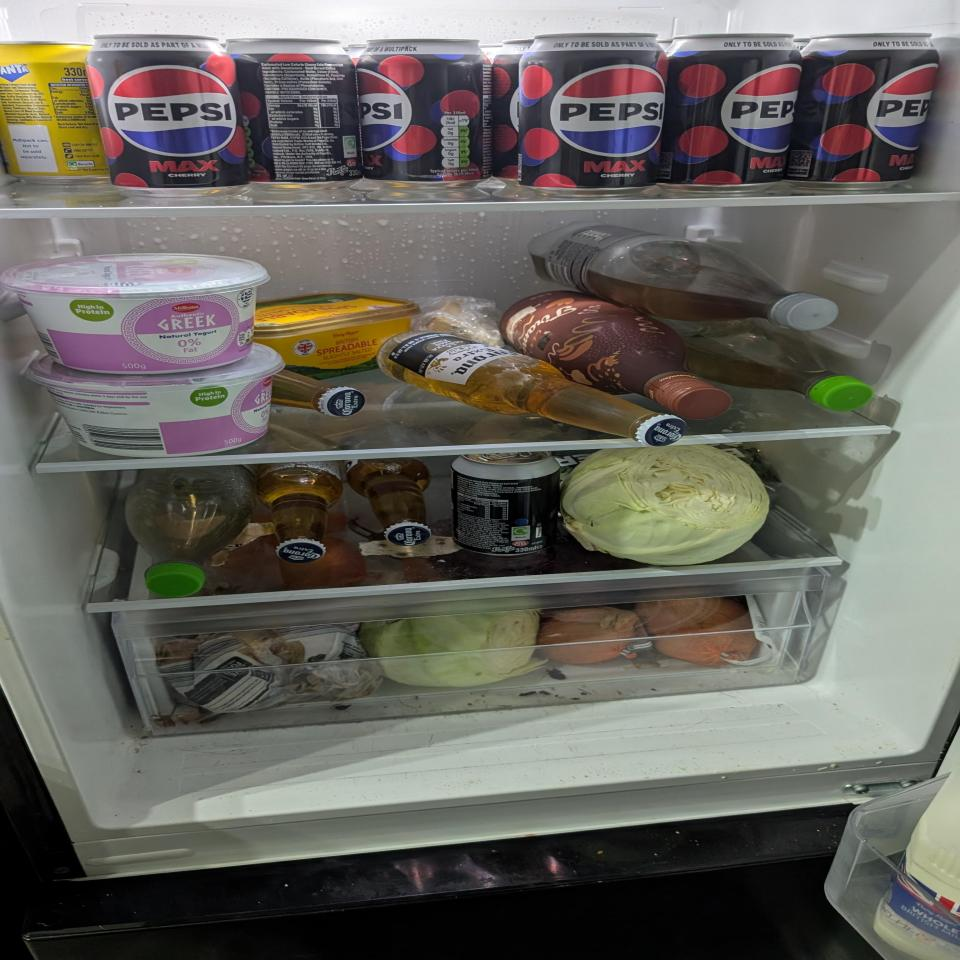Mantequilla: (252, 290, 422, 380)
Yogur: (0, 252, 273, 376), (27, 343, 285, 458)
